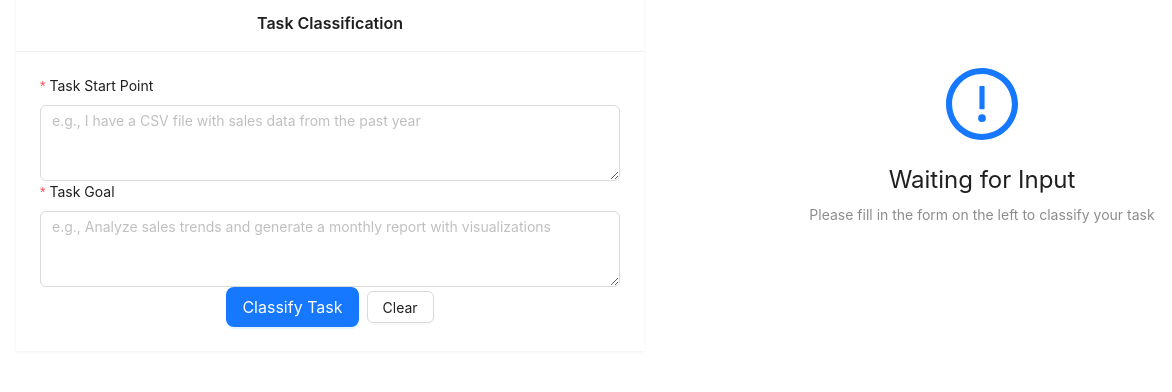
TaskClassificationPage › should require start and goal inputs
What coordinates should you click on to do the following:
click the button "Classify Task"
I would click on:
 (292, 307)
Its box is [226,287,358,327].
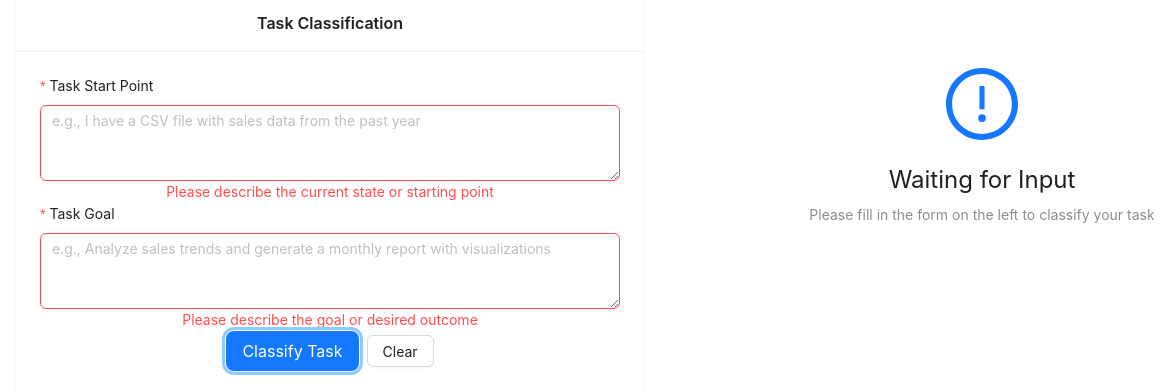
Expected: the text "Please describe the current state or starting point" is shown, [166,183,494,200]
Expected: the text "Please describe the goal or desired outcome" is shown, [182,311,478,328]
